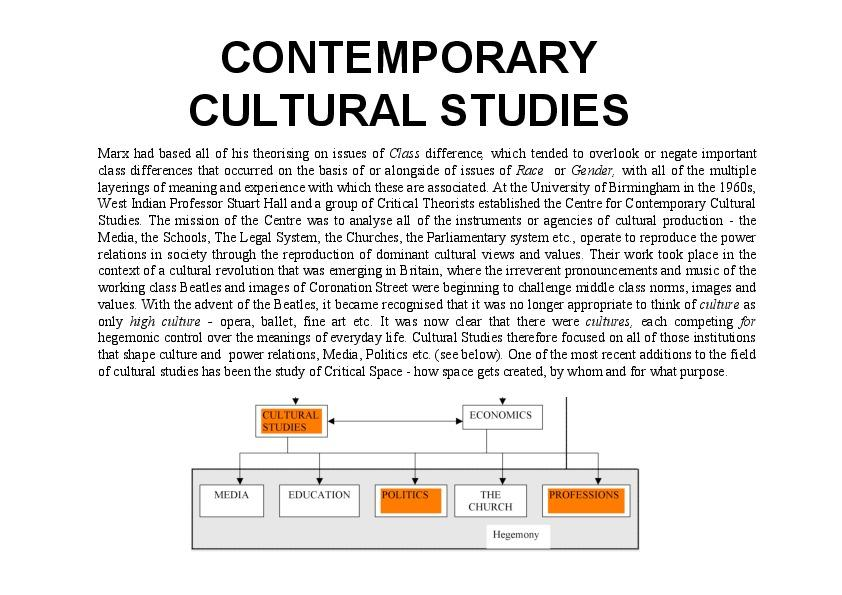paragraph: (68, 140, 793, 396)
title: (170, 19, 648, 139)
